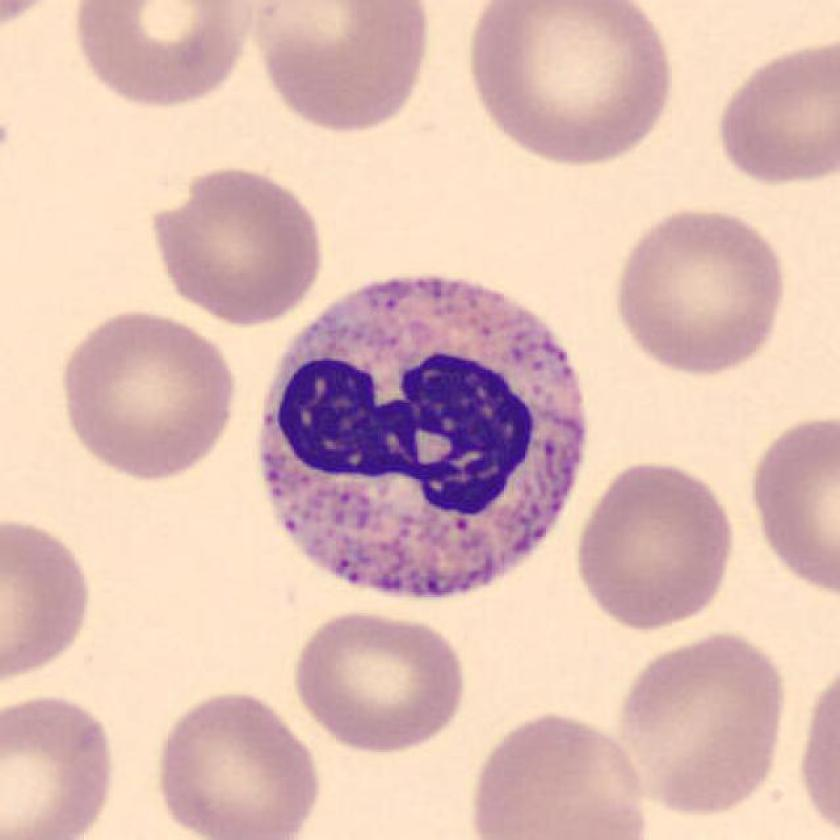neutrophil: (262, 277, 584, 597)
